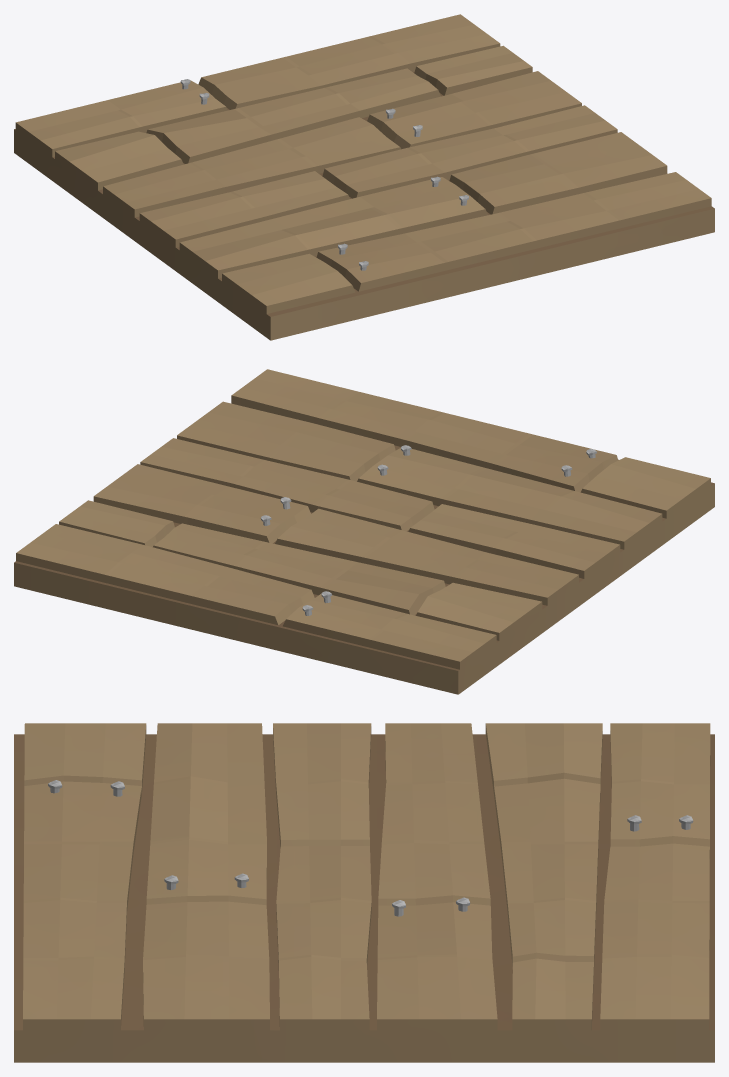
Rendered from floor_wood_2.glb.
3 renders of one model, top to bottom at view 1: azimuth 30°, elevation 25°; view 2: azimuth 150°, elevation 25°; view 3: azimuth 270°, elevation 25°, orthographic. The views are drawn at different scales.
Visible parts, largest first — view 1: floor_wood_2; view 2: floor_wood_2; view 3: floor_wood_2.
Part boxes in pixels (box(x1,y1,x2,y2)): floor_wood_2: box(14, 14, 714, 340); floor_wood_2: box(14, 369, 714, 694); floor_wood_2: box(14, 723, 714, 1062).
Bounding box in the file's own units: 2 × 0.176 × 2.
1 material, 1 textured.
